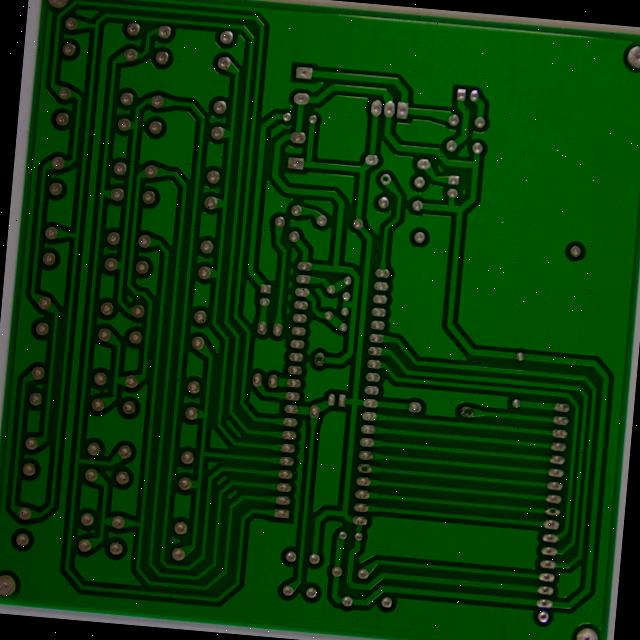missing_hole: (348, 466, 367, 484), (453, 410, 471, 426), (304, 355, 320, 373), (541, 512, 559, 527), (372, 174, 387, 189)
